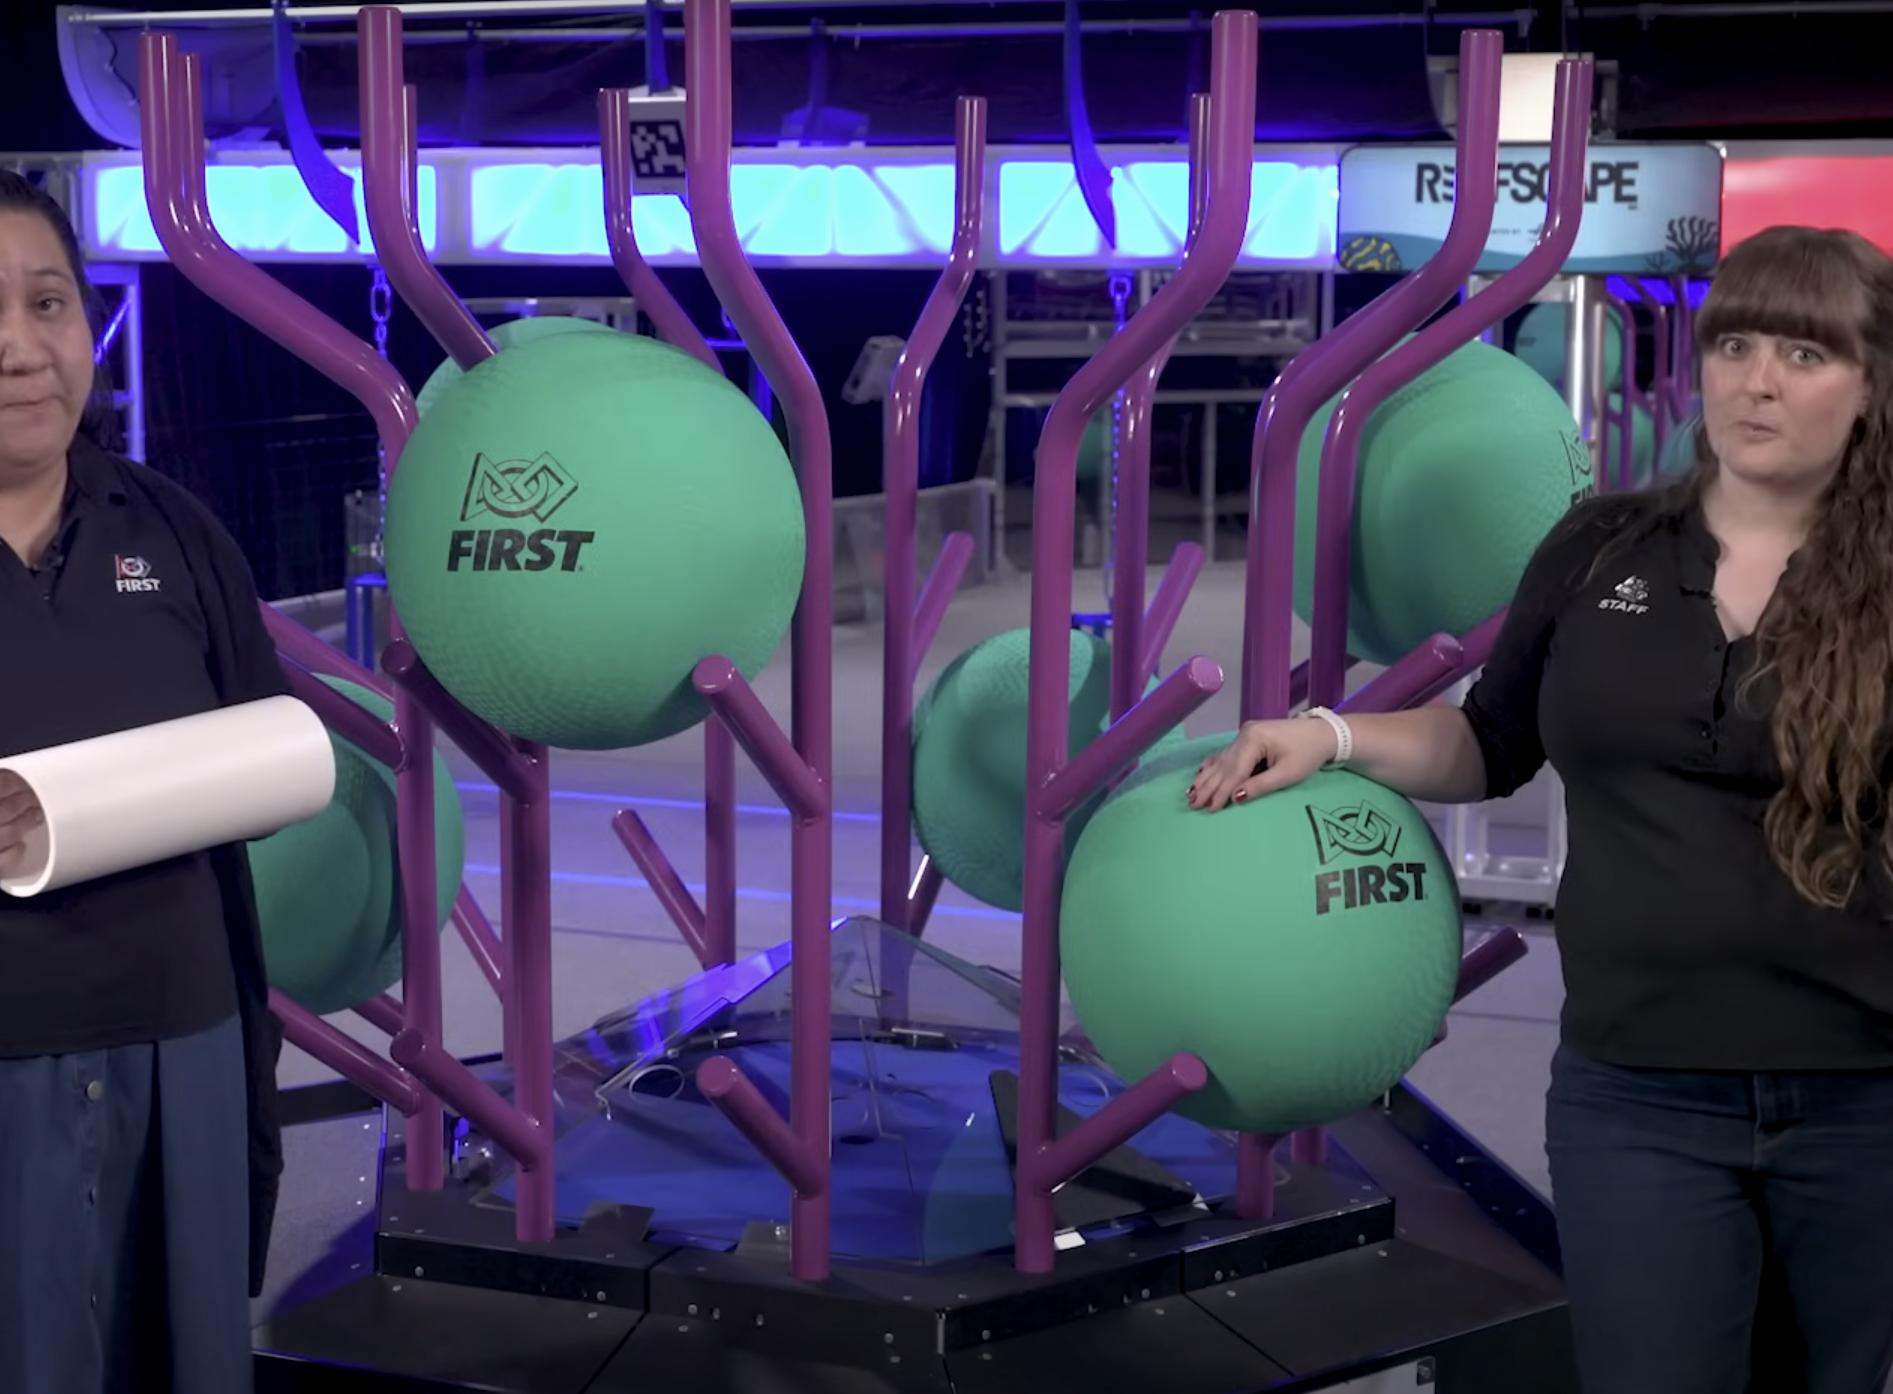algae: (384, 331, 810, 751), (1058, 734, 1465, 1137), (1286, 335, 1595, 668), (910, 632, 1183, 918), (235, 675, 459, 1010), (1515, 300, 1624, 398), (1609, 394, 1655, 490), (1658, 416, 1714, 479)
coral: (0, 697, 334, 896)
